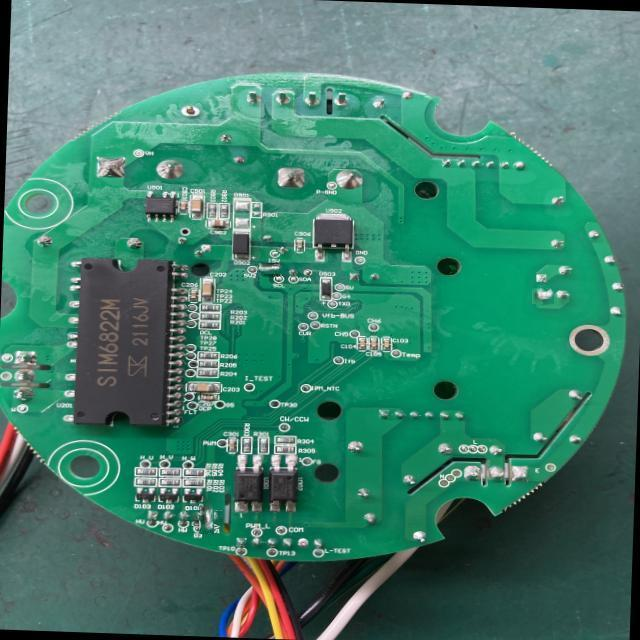damged: (194, 506, 218, 530), (532, 285, 553, 306), (257, 264, 284, 276)
